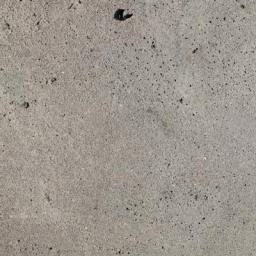FOD: (113, 6, 137, 26)
